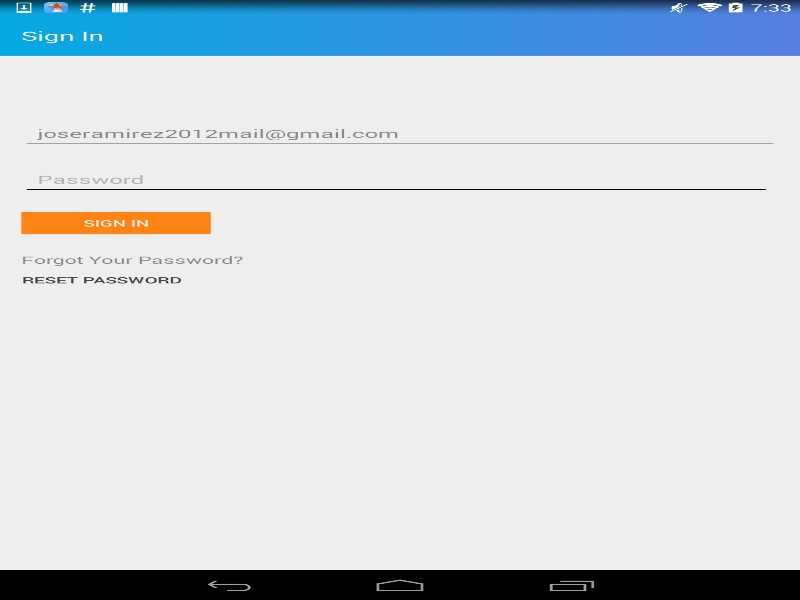Button: (266, 430, 533, 459), (0, 268, 202, 291), (21, 211, 210, 234), (357, 492, 442, 514)
Input: (21, 118, 778, 148), (21, 164, 771, 194)
